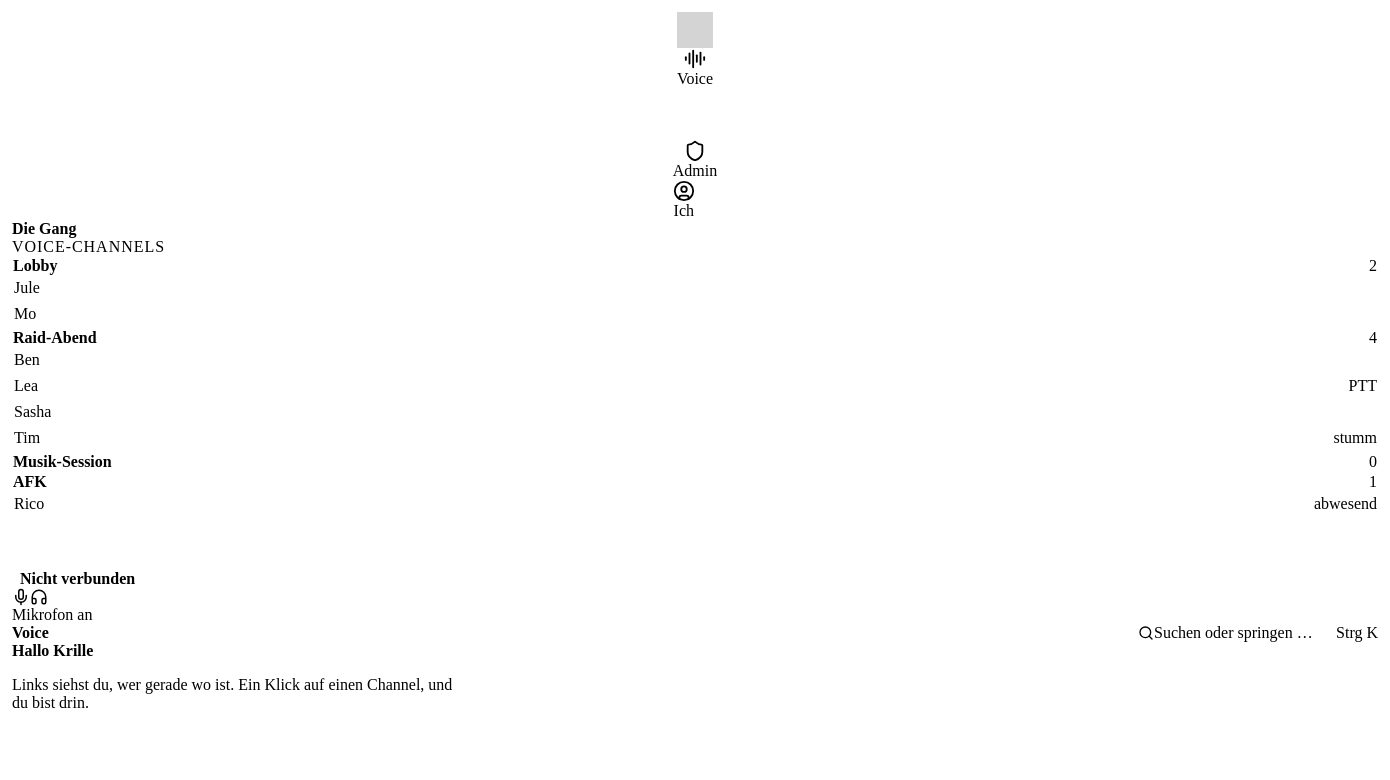
Voice module: channel tree › switches channels with a click and leaves from the dock
The width and height of the screenshot is (1390, 780).
Expected: the heading "Hallo Krille" is shown, [12,642,93,659]
Click the button "Raid-Abend 4" at (55, 338), box [13,329,1377,347]
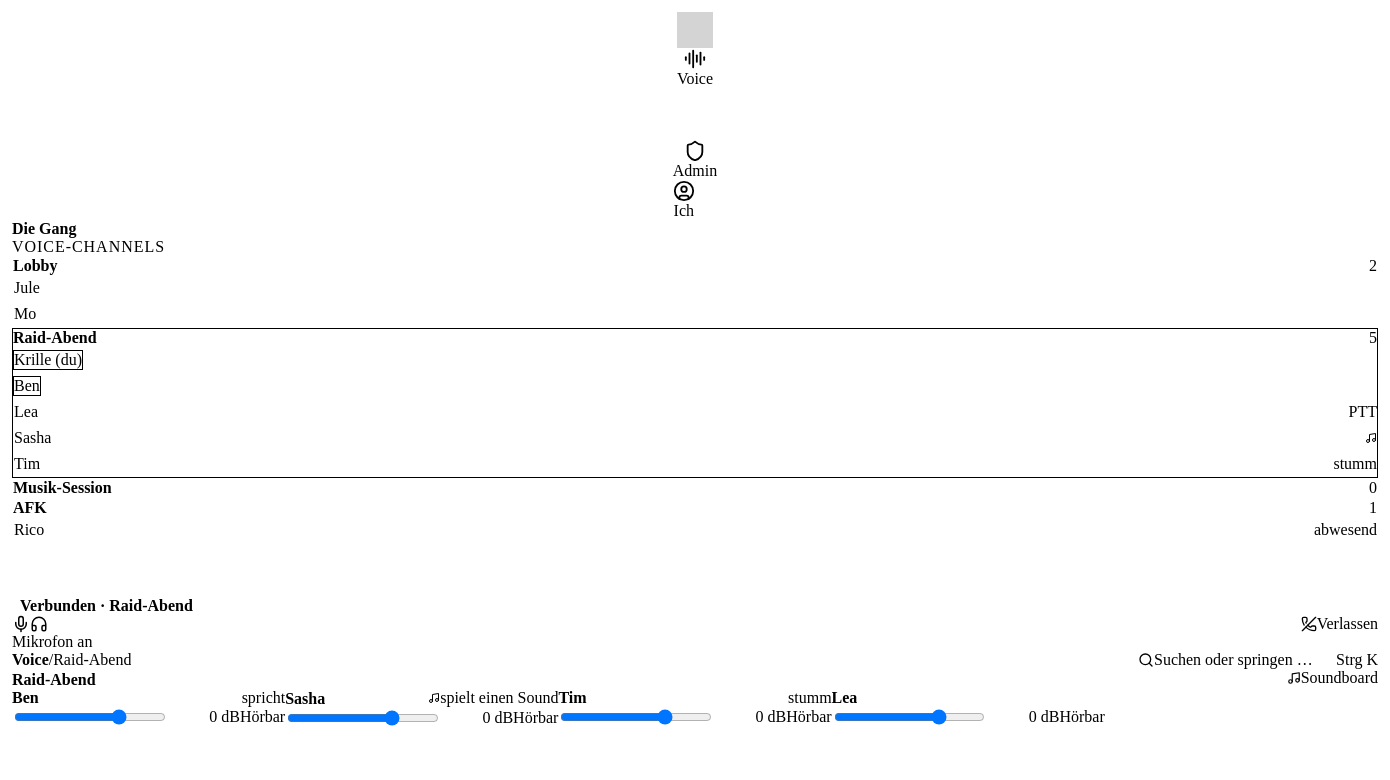
Expected: the heading "Raid-Abend" is shown, [12,671,96,689]
Click the button "Lobby 2" at (35, 266), box [13,257,1377,275]
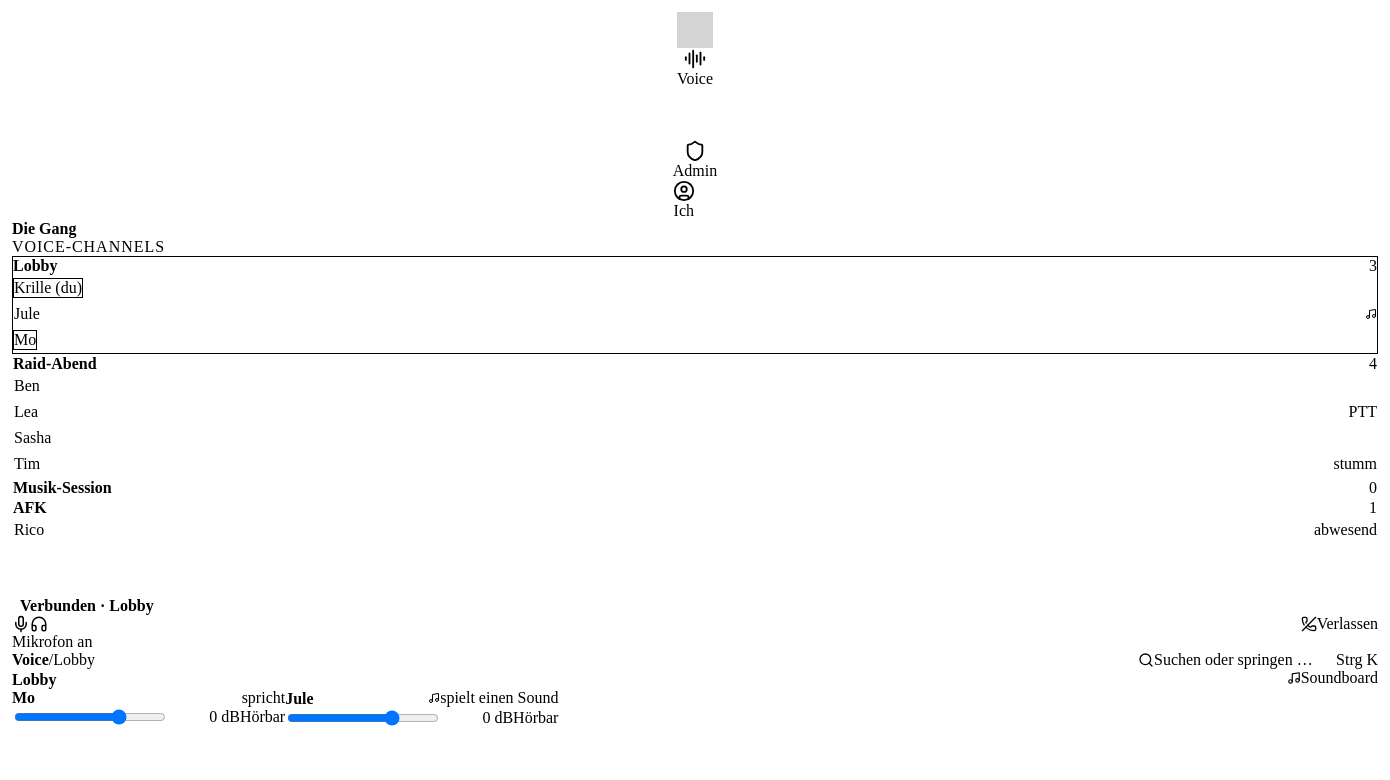
Expected: the text "Krille (du)" is shown, [13,278,83,298]
Expected: the heading "Lobby" is shown, [12,671,56,689]
Click the button "Verlassen" at (1339, 624), box [1301,615,1378,633]
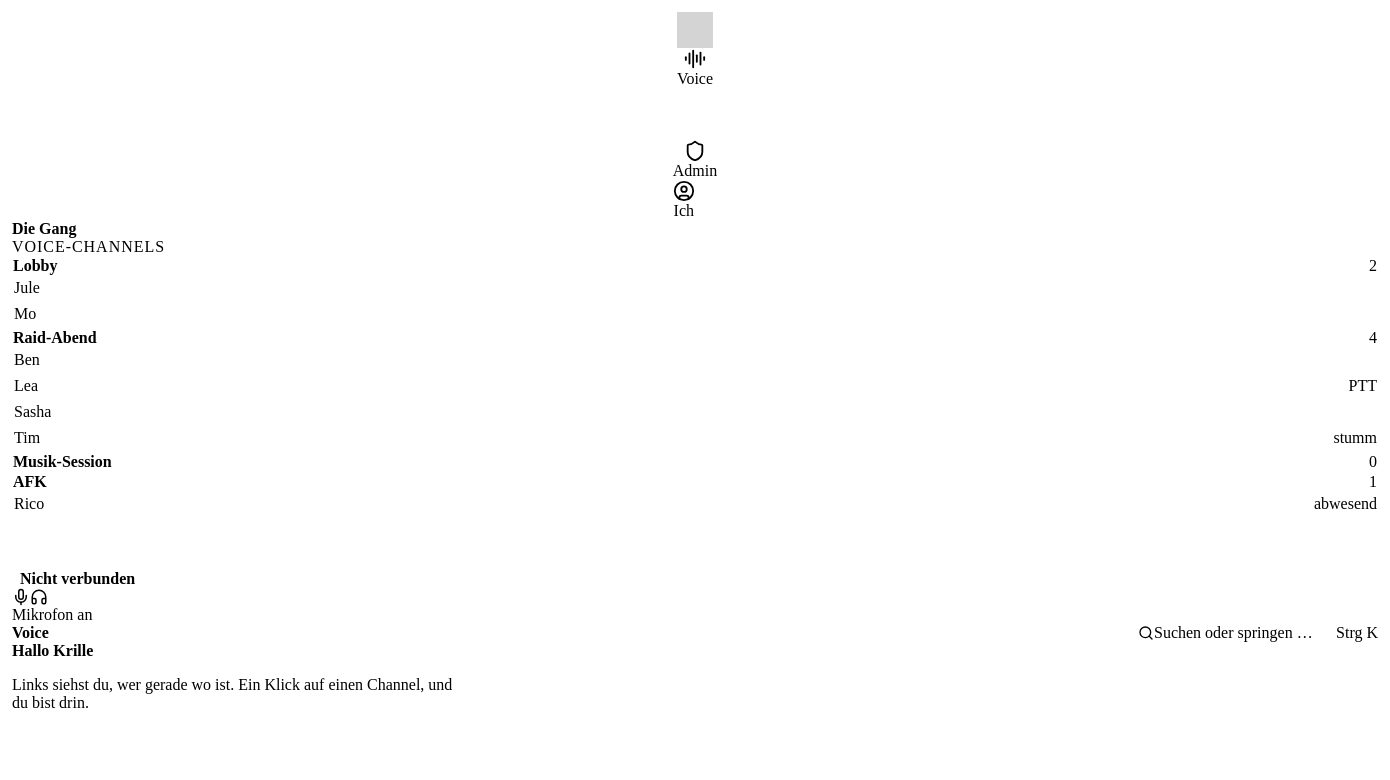
Expected: the heading "Hallo Krille" is shown, [12,642,93,659]
Expected: the text "Krille (du)" is gone
